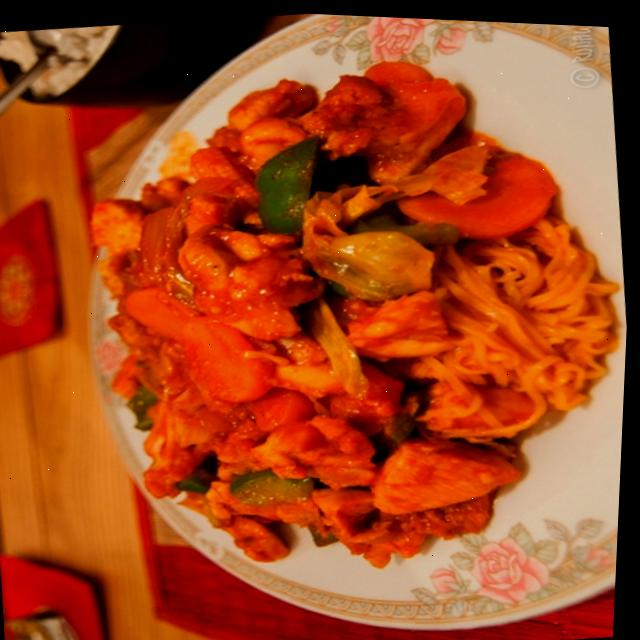鸡肉料理 含炸鸡: (38, 2, 640, 637)
